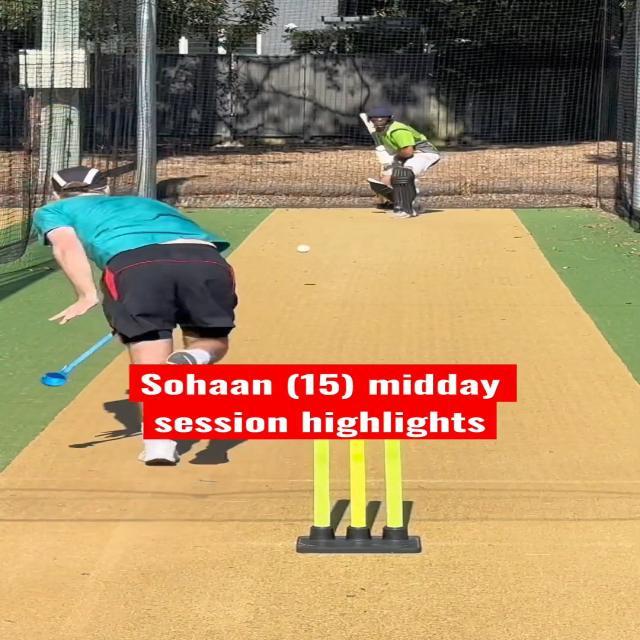ball: (296, 244, 312, 254)
stump: (302, 435, 414, 556)
